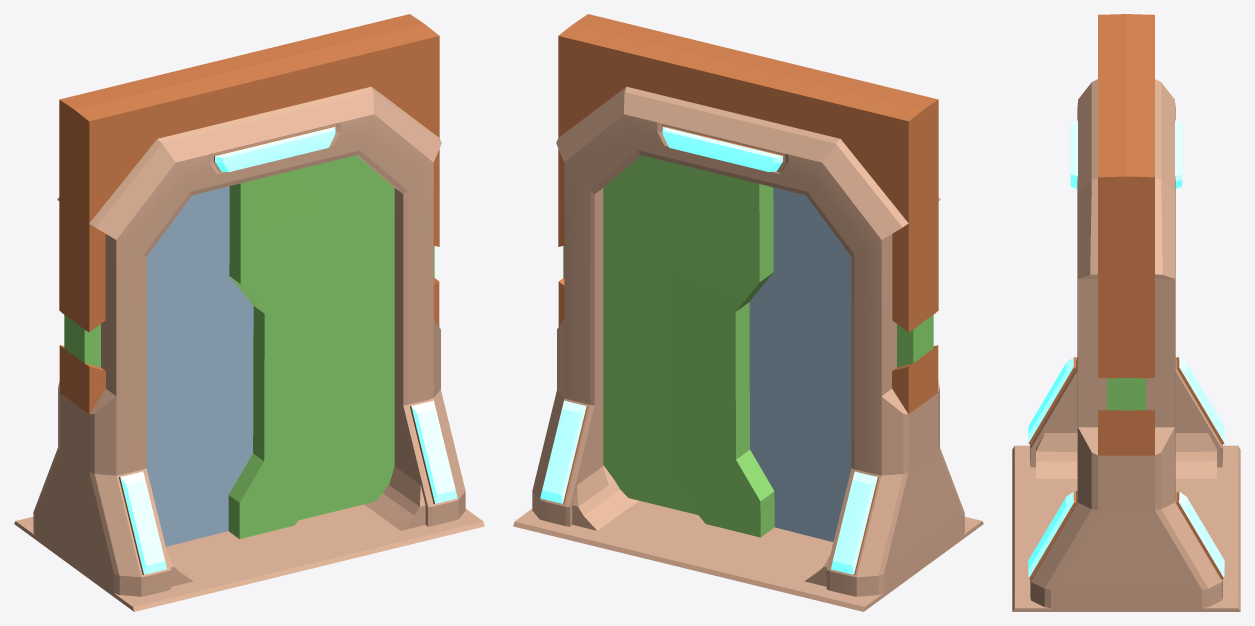
The model's file is T2_Door.fbx.
The picture shows the model from 3 angles, left to right: view 1: azimuth 30°, elevation 25°; view 2: azimuth 150°, elevation 25°; view 3: azimuth 270°, elevation 25°; orthographic projection. The views are drawn at different scales.
Parts seen in each view (by area): view 1: T2_DoorFrame, T2_Door_Right, T2_Door_Left; view 2: T2_DoorFrame, T2_Door_Right, T2_Door_Left; view 3: T2_DoorFrame.
Part boxes in pixels (box(x1,y1,x2,y2)): T2_DoorFrame: box(14, 14, 484, 611); T2_Door_Right: box(228, 155, 394, 539); T2_Door_Left: box(146, 186, 253, 546); T2_DoorFrame: box(513, 14, 983, 611); T2_Door_Right: box(603, 155, 774, 537); T2_Door_Left: box(749, 187, 851, 541); T2_DoorFrame: box(1012, 14, 1240, 611).
Size of the model in its own units: 200 by 250 by 119.
